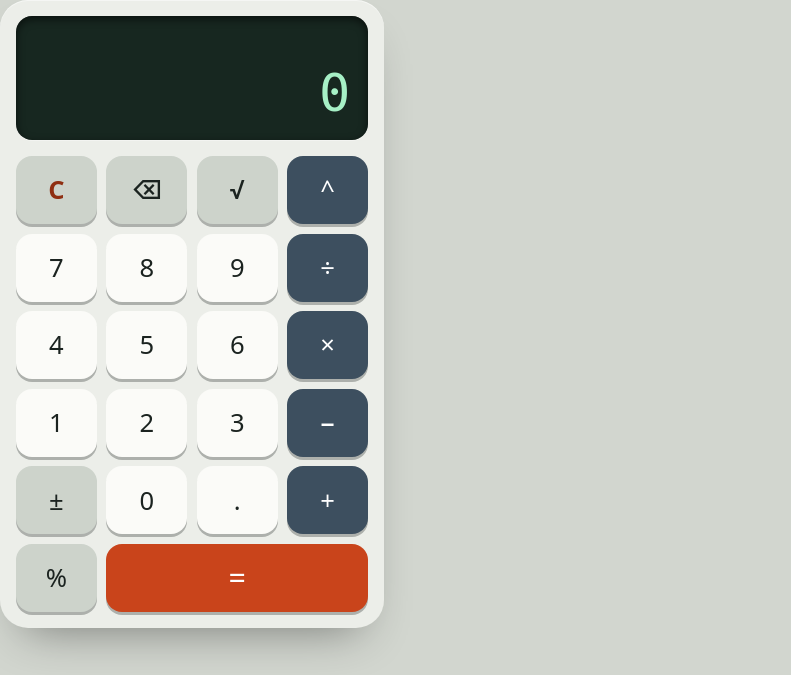
Calculator (mouse and touch) › removes the pop-up and recovers on the next digit after a calculation error
Click the button "1" at (56, 423), box [16,389,97,457]
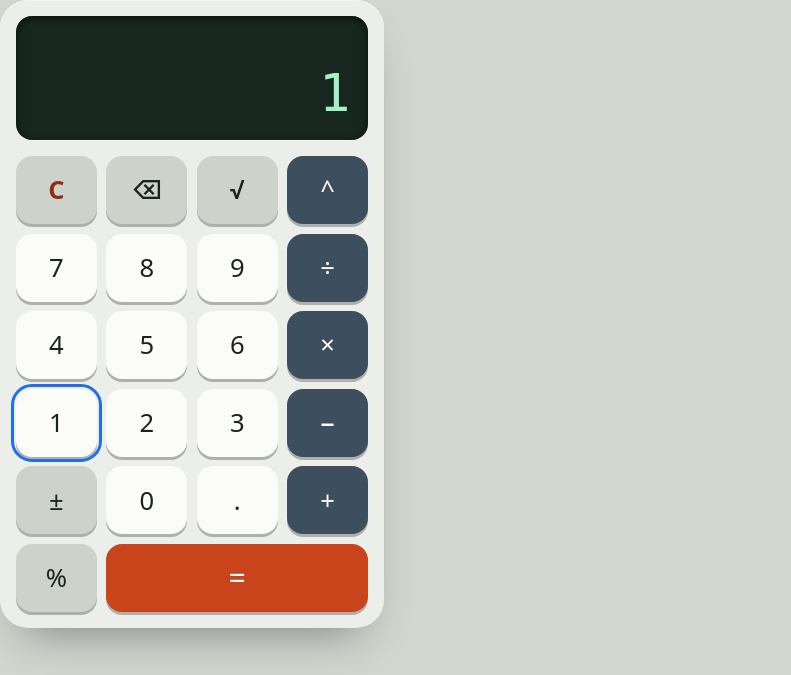
Click the button named "Divide" at (328, 268), box [287,234,368,302]
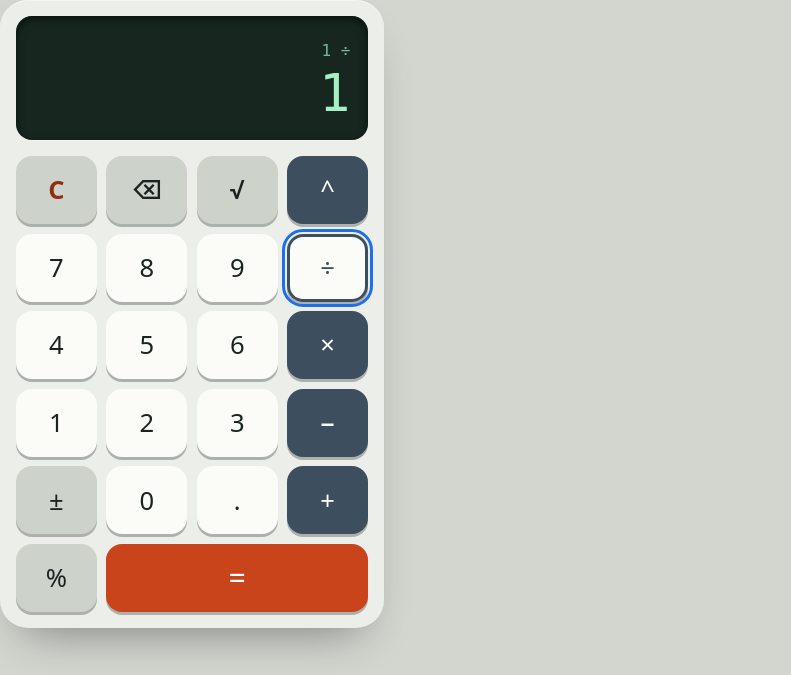
Click the button "0" at (147, 500), box [106,466,187,534]
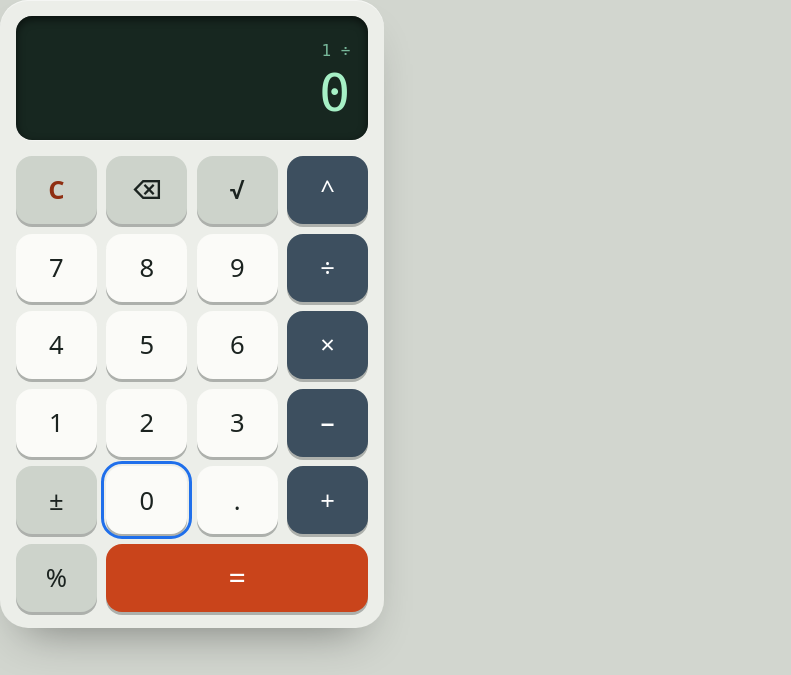
Click the button named "Equals" at (237, 578), box [106,544,368,612]
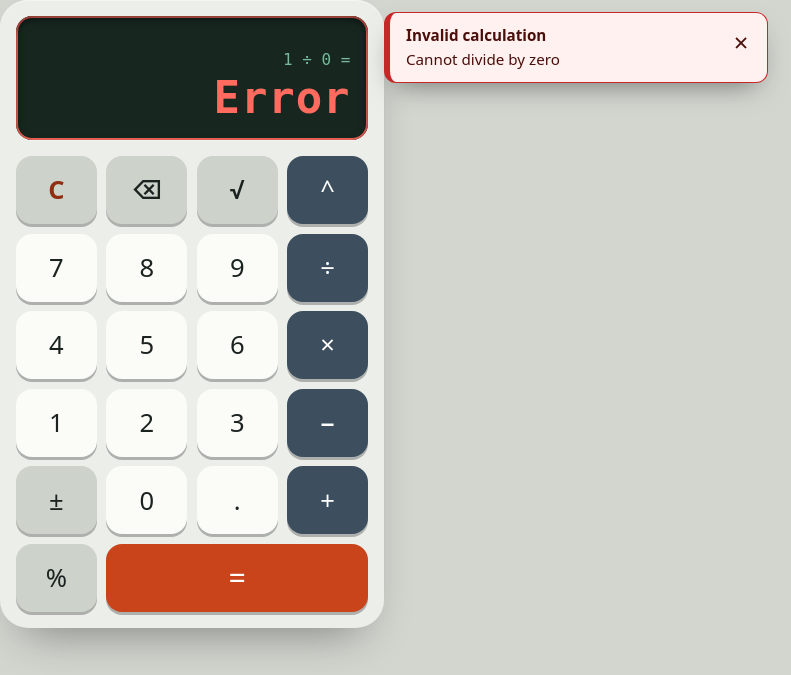
Expected: the message "Invalid calculation Cannot divide by zero ×" is shown, [384,12,768,83]
Click the button "5" at (147, 345), box [106,311,187,379]
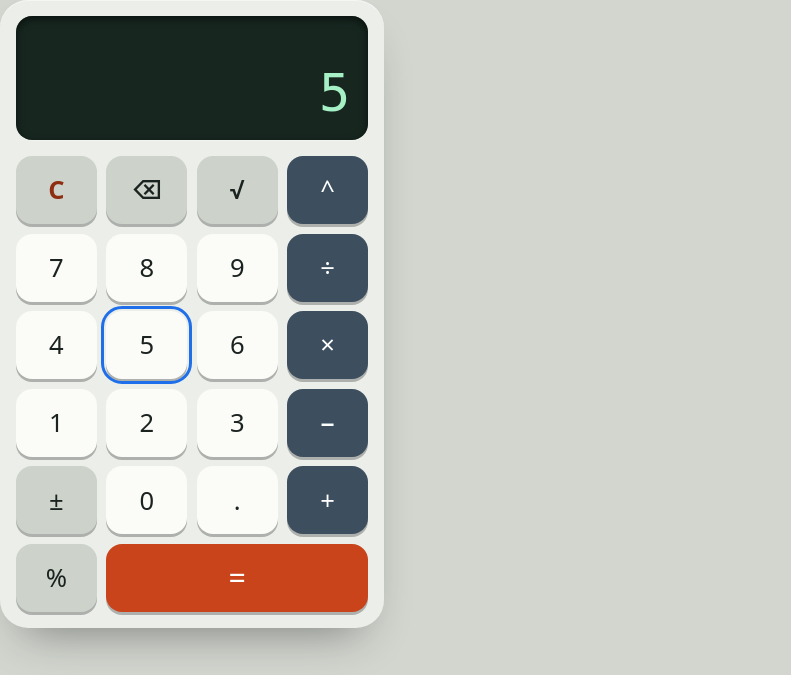
Expected: the message "Invalid calculation Cannot divide by zero ×" is gone
Expected: the message reads "5", [319,63,350,123]
